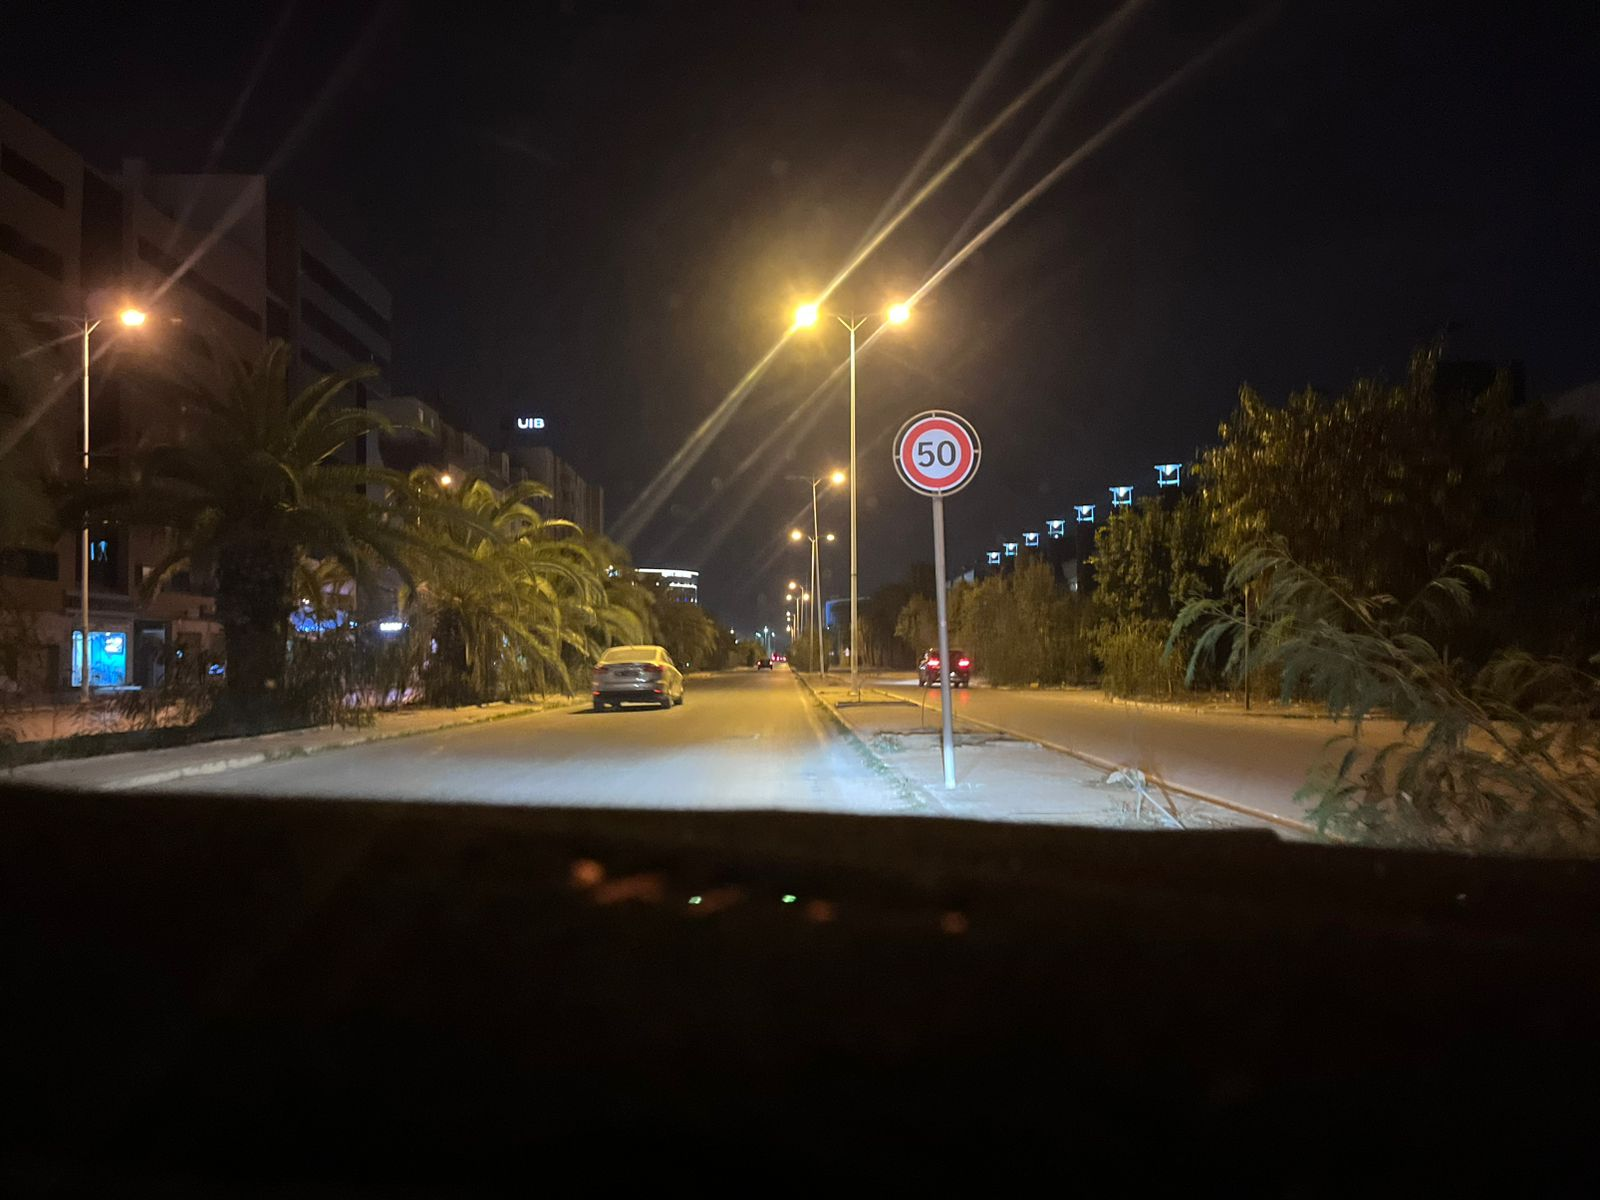SpeedLimit50: (890, 409, 982, 498)
